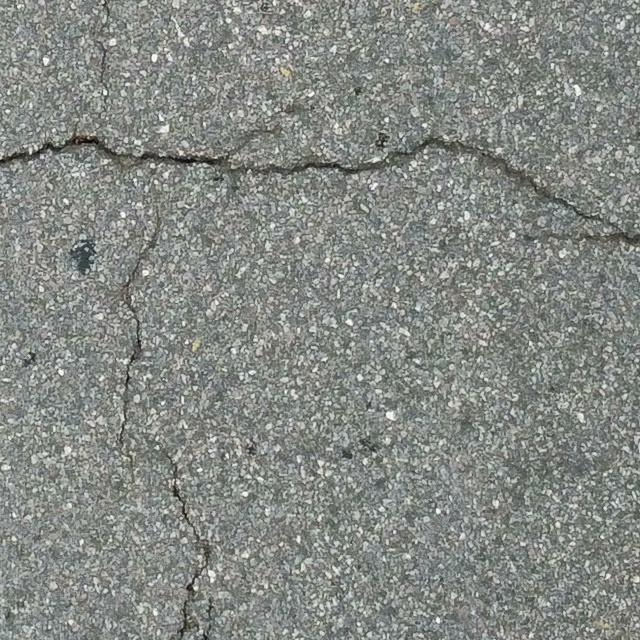LongitudinalCrack: (117, 203, 162, 486), (159, 449, 212, 640), (95, 1, 114, 114)
TransverseCrack: (1, 135, 640, 244)
